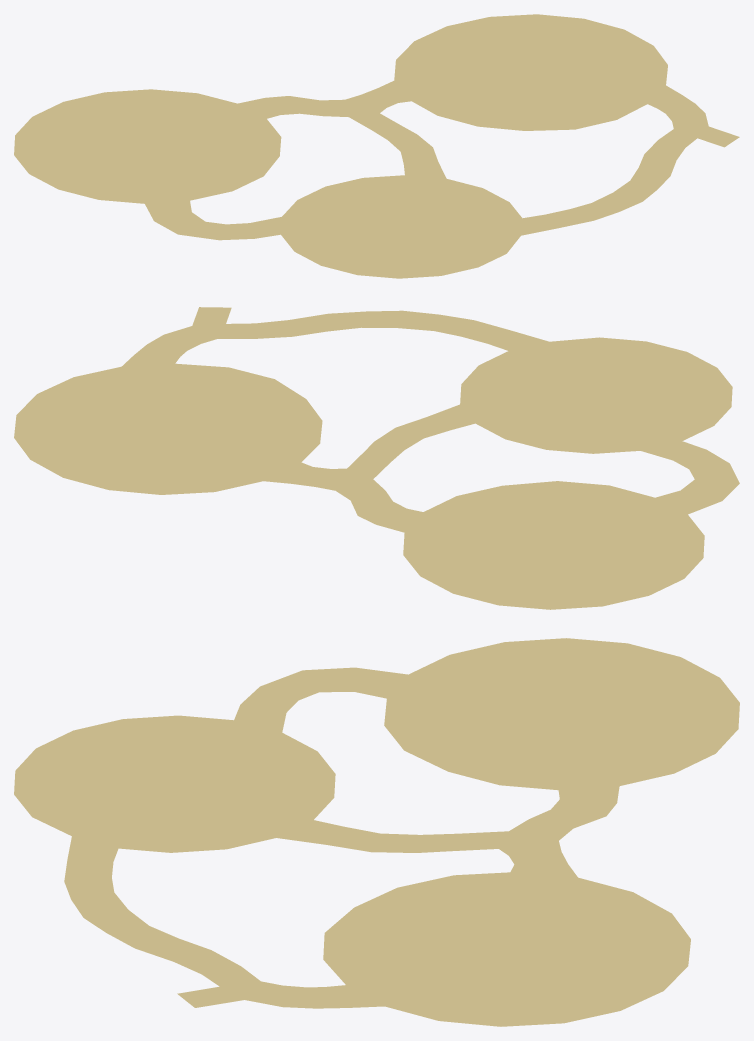
Rendered from ground.fbx.
3 renders of one model, top to bottom at view 1: azimuth 30°, elevation 25°; view 2: azimuth 150°, elevation 25°; view 3: azimuth 270°, elevation 25°, orthographic. The views are drawn at different scales.
Visible parts, largest first — view 1: Cylinder012; view 2: Cylinder012; view 3: Cylinder012.
Part boxes in pixels (bbox=[...]): Cylinder012: bbox=[14, 14, 739, 278]; Cylinder012: bbox=[14, 307, 739, 609]; Cylinder012: bbox=[14, 638, 739, 1026].
Size of the model in its own units: 1463 by 5.11e-05 by 1155.
